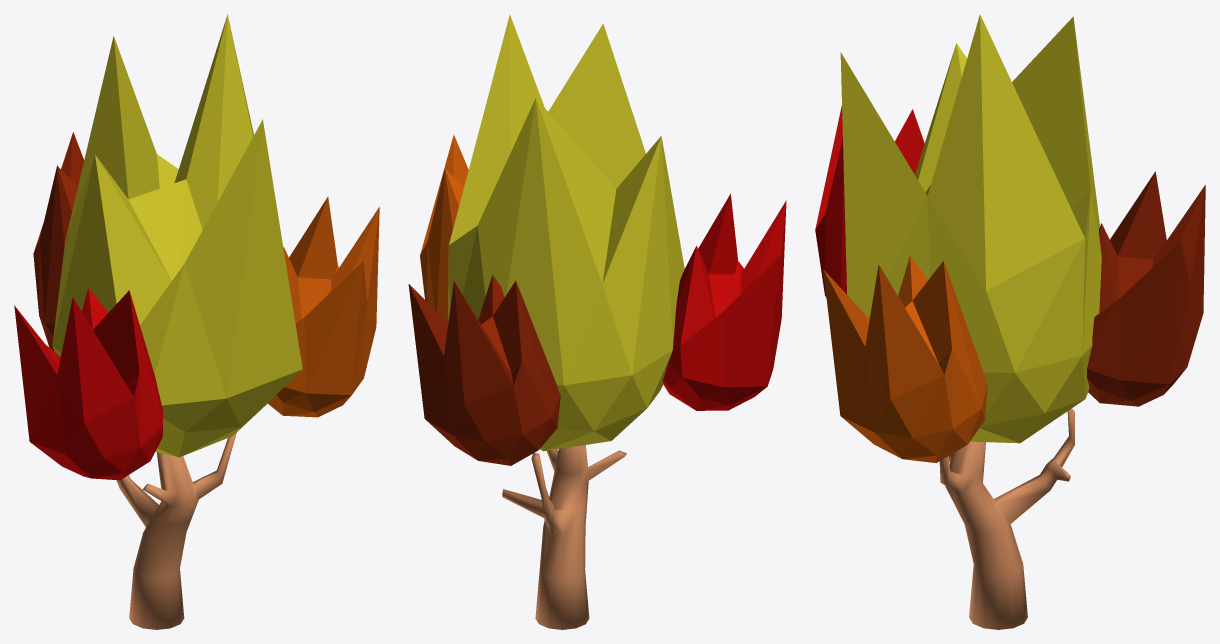
The model's file is FlamingTree.fbx.
The picture shows the model from 3 angles, left to right: view 1: azimuth 30°, elevation 25°; view 2: azimuth 150°, elevation 25°; view 3: azimuth 270°, elevation 25°; orthographic projection. The views are drawn at different scales.
Visible parts, largest first — view 1: Fire, Fire.001, Fire.002, Tree, Fire.003; view 2: Fire, Fire.003, Fire.001, Tree, Fire.002; view 3: Fire, Fire.002, Fire.003, Tree, Fire.001.
Part boxes in pixels (x1=…): Fire: x1=52, y1=14, x2=302, y2=457; Fire.001: x1=14, y1=288, x2=162, y2=480; Fire.002: x1=268, y1=196, x2=379, y2=417; Tree: x1=116, y1=432, x2=236, y2=629; Fire.003: x1=33, y1=132, x2=84, y2=350; Fire: x1=448, y1=14, x2=684, y2=451; Fire.003: x1=408, y1=274, x2=560, y2=465; Fire.001: x1=663, y1=193, x2=786, y2=410; Tree: x1=502, y1=445, x2=626, y2=629; Fire.002: x1=420, y1=134, x2=468, y2=322; Fire: x1=840, y1=14, x2=1101, y2=443; Fire.002: x1=823, y1=255, x2=987, y2=462; Fire.003: x1=1087, y1=171, x2=1205, y2=406; Tree: x1=939, y1=408, x2=1074, y2=629; Fire.001: x1=815, y1=105, x2=924, y2=297.
Size of the model in its own units: 6.84 by 11.01 by 6.13.
